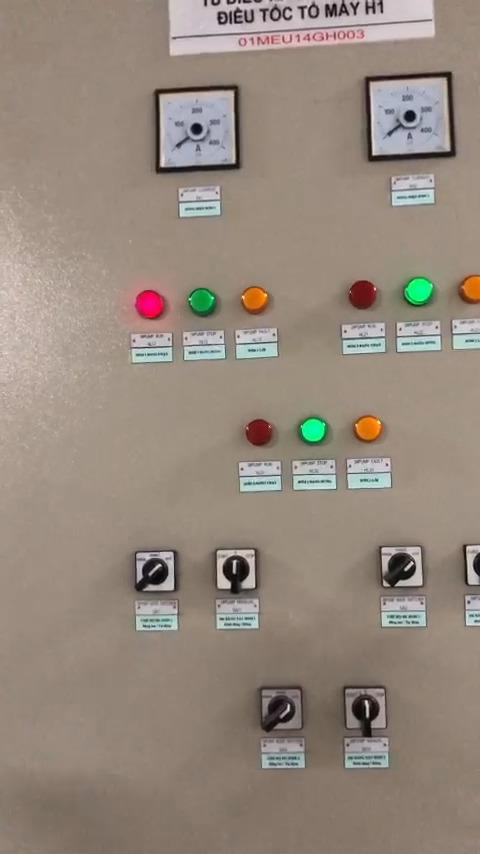led: (182, 282, 218, 318), (399, 275, 435, 310), (345, 276, 380, 311), (239, 415, 274, 450), (294, 413, 328, 449), (350, 410, 384, 445), (128, 288, 165, 320), (235, 283, 266, 315), (455, 275, 480, 304)
twist: (209, 545, 259, 596), (345, 686, 391, 741), (377, 543, 425, 595), (130, 545, 178, 596), (259, 685, 305, 735), (457, 539, 480, 590)
